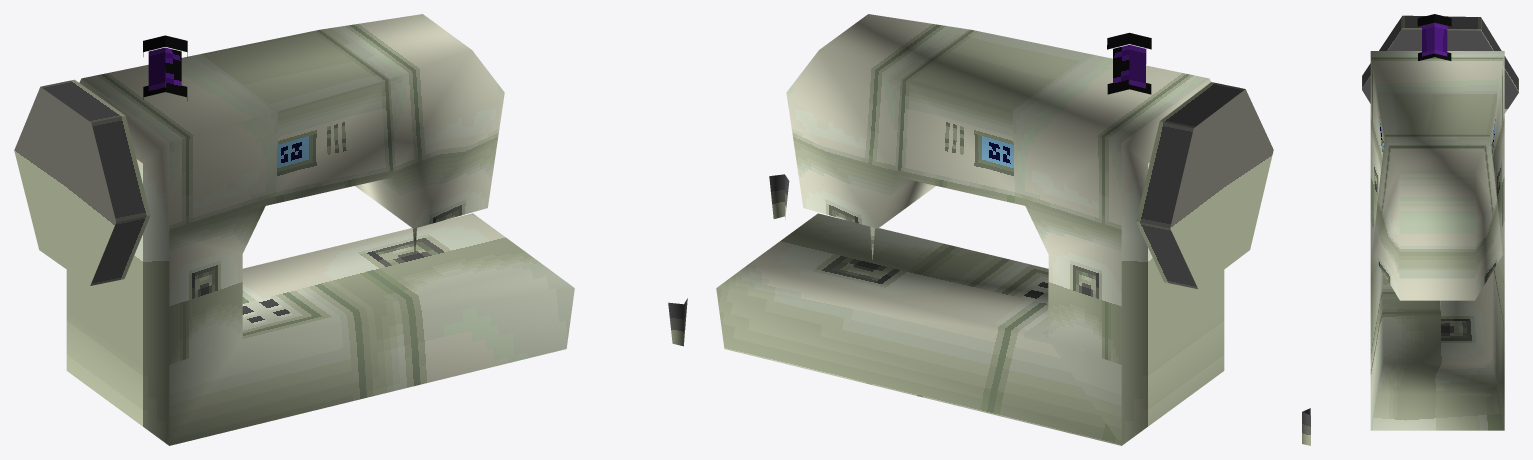
3 renders of one model, left to right at view 1: azimuth 30°, elevation 25°; view 2: azimuth 150°, elevation 25°; view 3: azimuth 270°, elevation 25°, orthographic. The views are drawn at different scales.
Visible parts, largest first — view 1: uma_misin; view 2: uma_misin; view 3: uma_misin.
Part boxes in pixels (x1,y1,x2,y2): uma_misin: (14,14,687,445); uma_misin: (716,14,1273,445); uma_misin: (1302,14,1518,445).
Size of the model in its own units: 1.56 by 0.9971 by 0.7141.
Materials: 2 (2 with a texture image).
